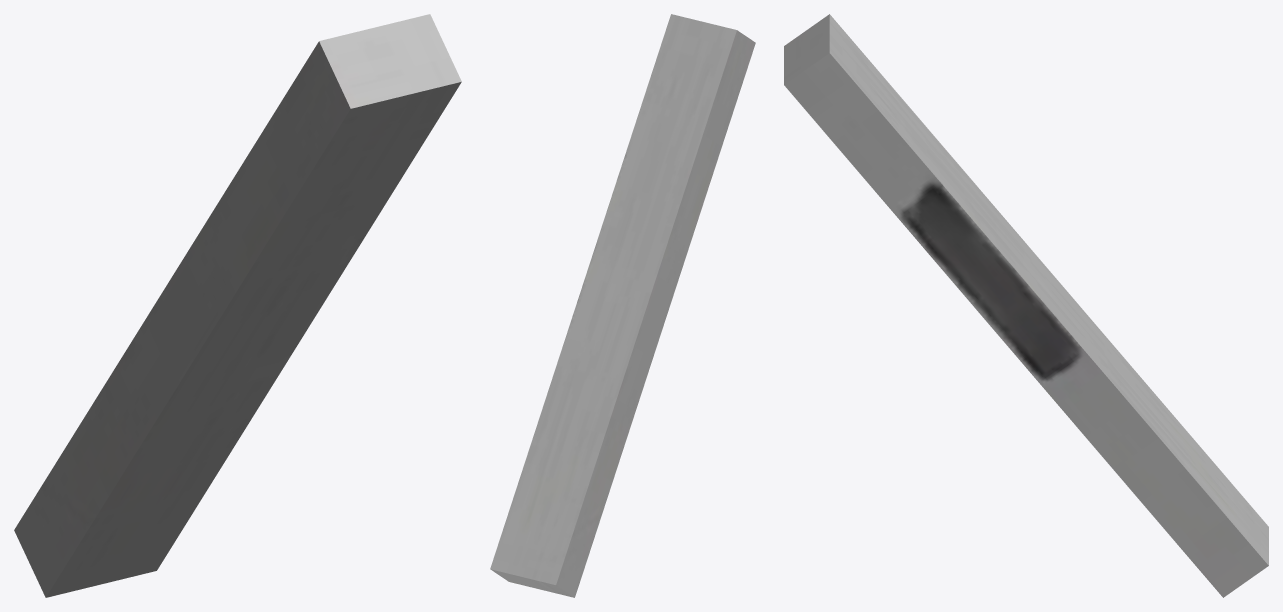
Rendered from support_arm__arm_side_0.glb.
3 renders of one model, left to right at view 1: azimuth 30°, elevation 25°; view 2: azimuth 150°, elevation 25°; view 3: azimuth 270°, elevation 25°, orthographic. The views are drawn at different scales.
Parts seen in each view (by area): view 1: geometry_0; view 2: geometry_0; view 3: geometry_0.
Part boxes in pixels (box(x1,y1,x2,y2)): geometry_0: box(14, 14, 461, 597); geometry_0: box(490, 14, 755, 597); geometry_0: box(784, 14, 1268, 597).
Bounding box in the file's own units: 0.04 × 0.2602 × 0.2098.
1 material, 1 textured.
